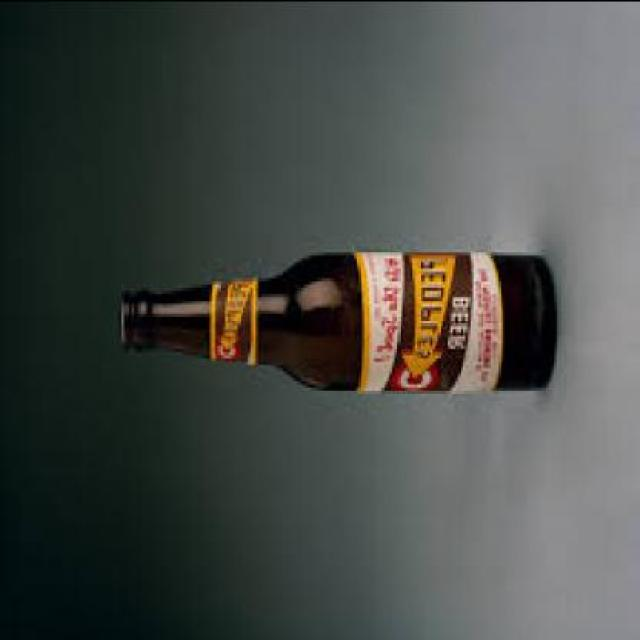GLASS: (118, 245, 554, 386)
